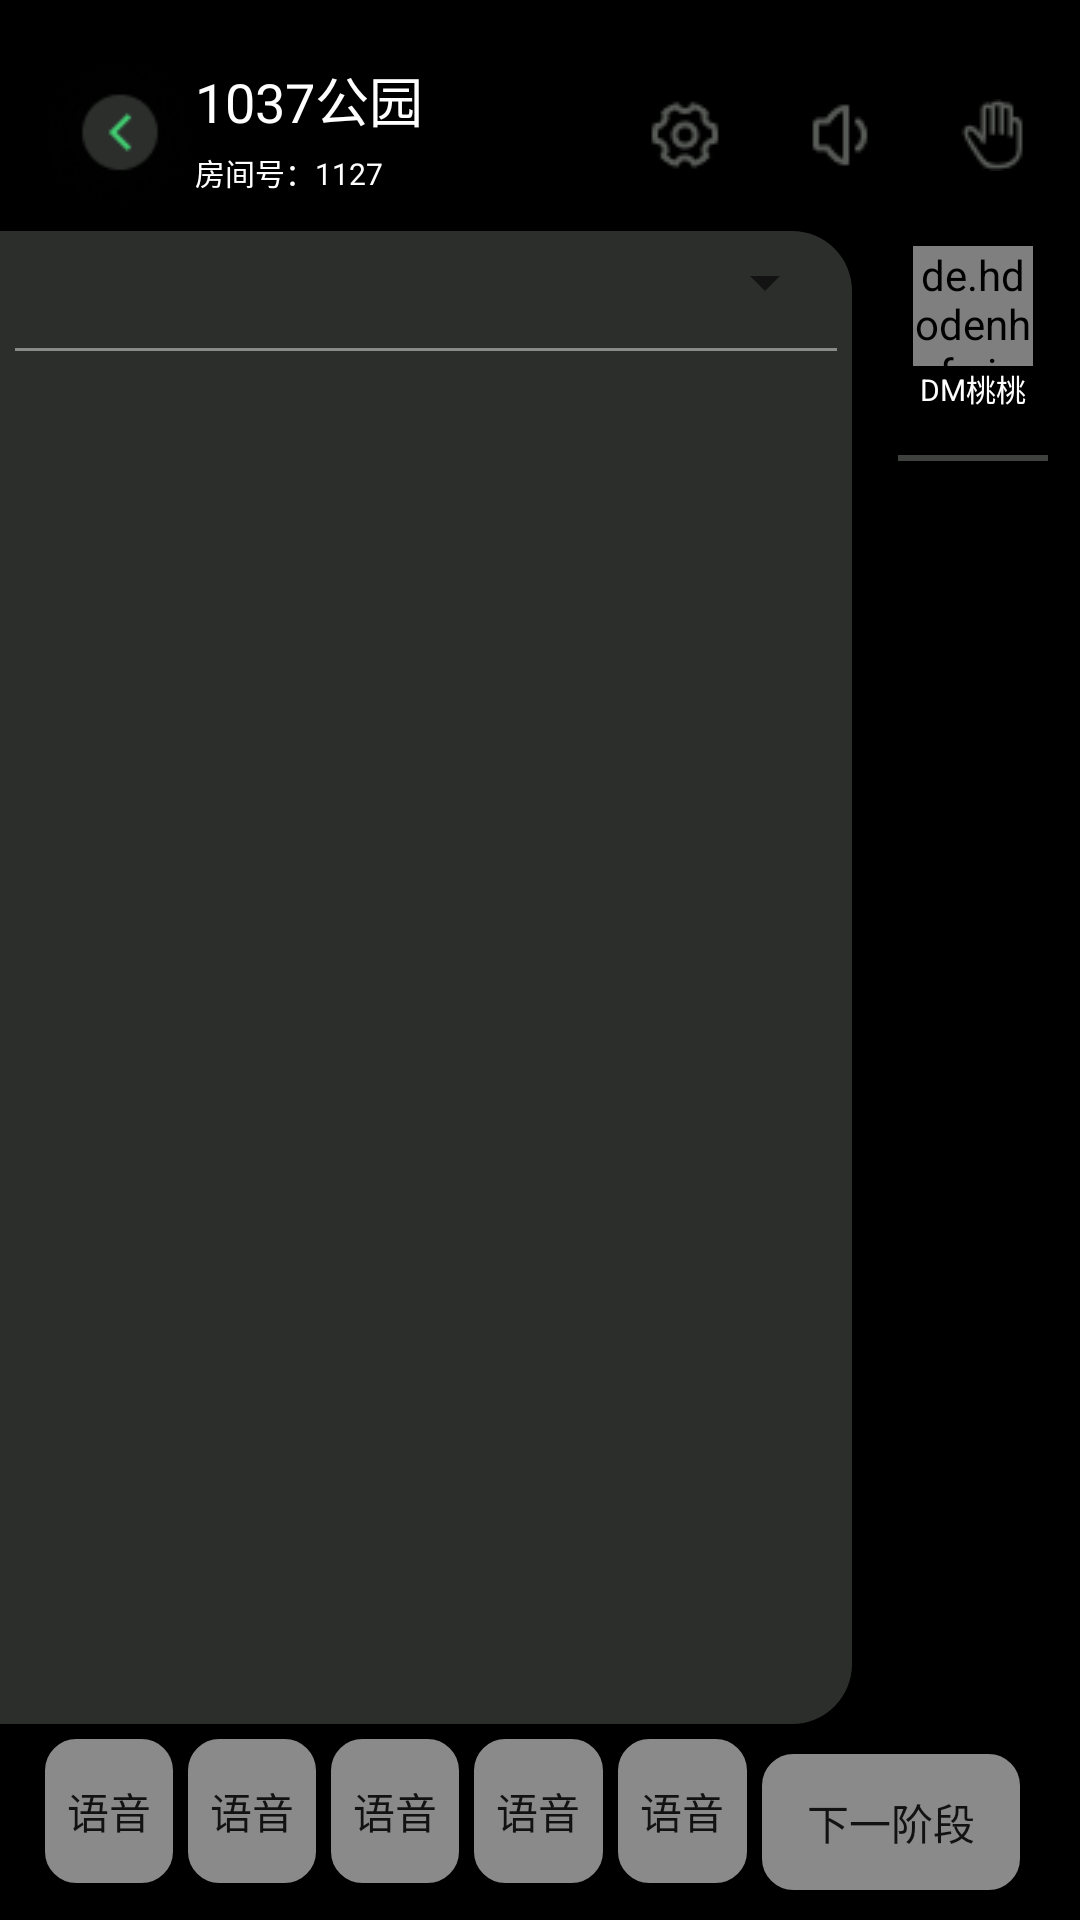

Point at icon controls on the screen. Image size 1080×1920, points as (x=x, y=y).
back: (x=120, y=132)
handsup: (x=993, y=135)
settings: (x=685, y=135)
soundup: (x=840, y=135)
